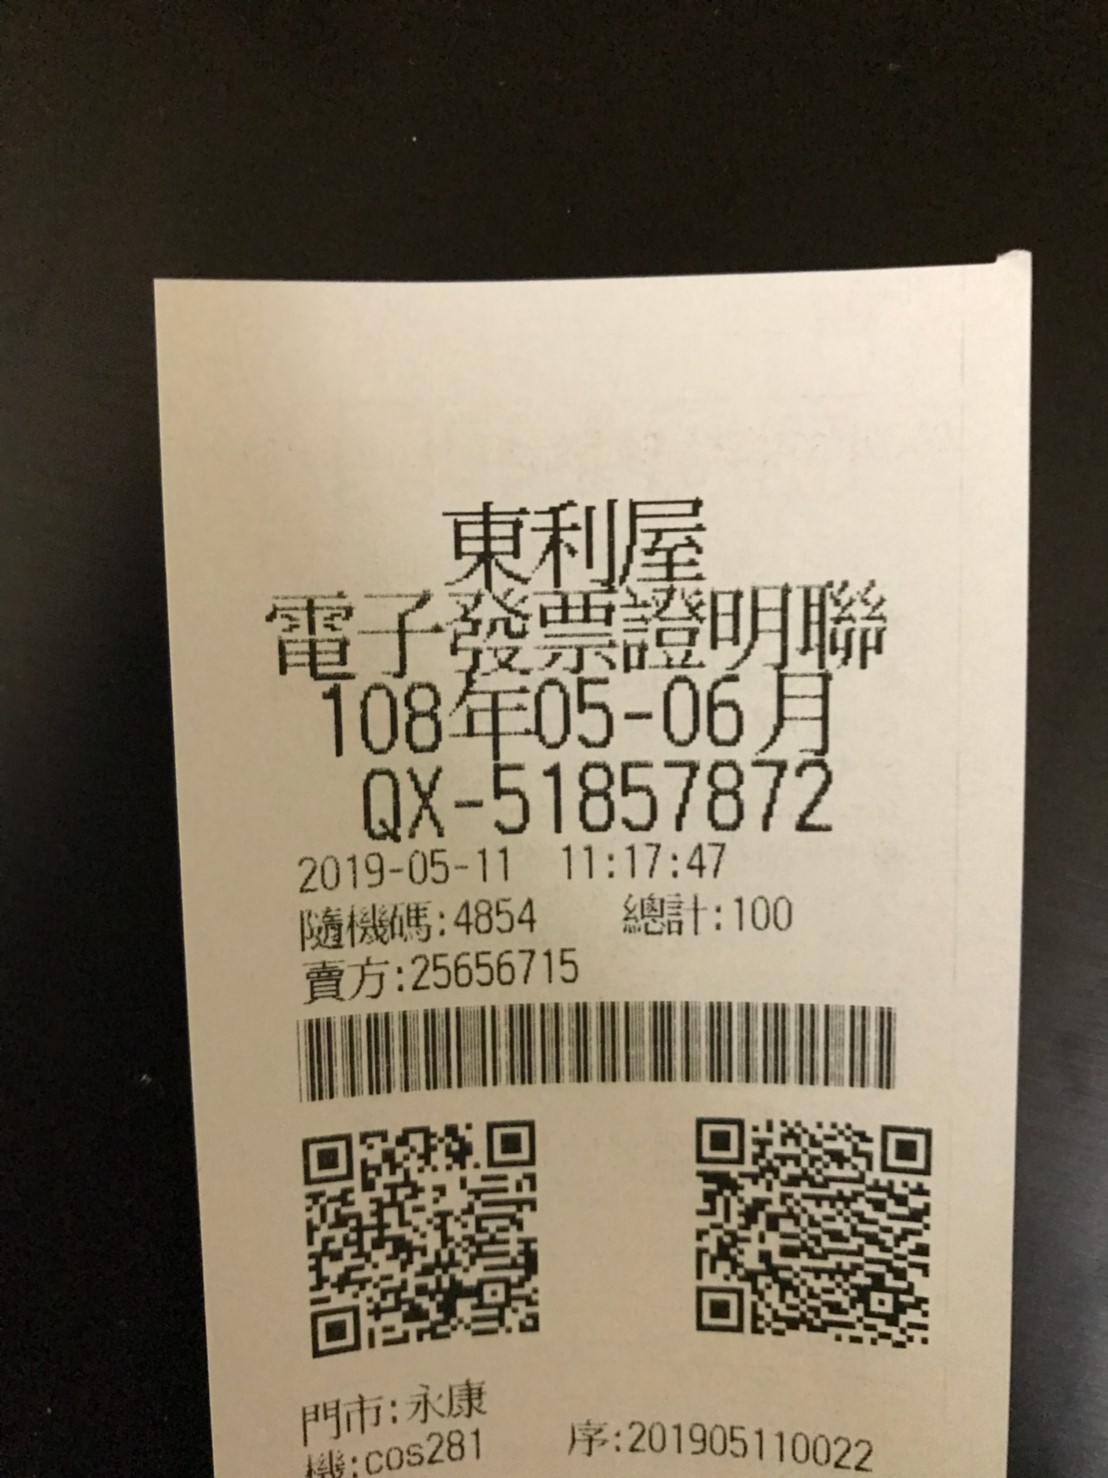Date_New: (324, 667, 834, 765)
Number_New: (486, 754, 834, 836)
